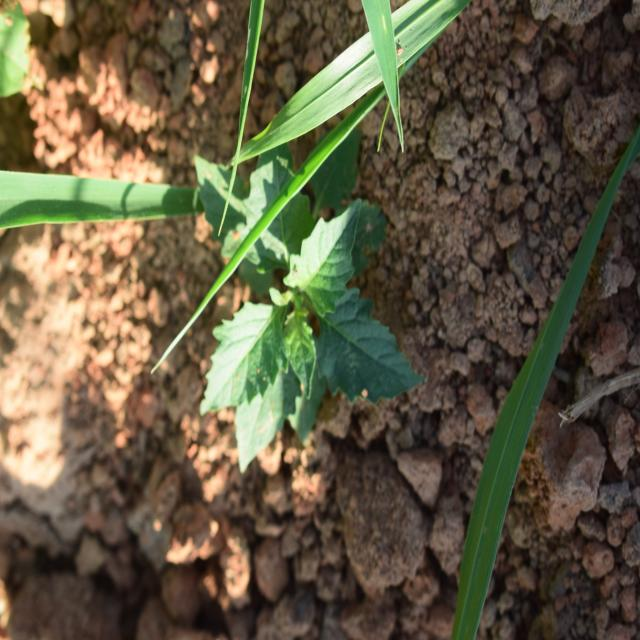Black_nightshade: (188, 140, 438, 456)
